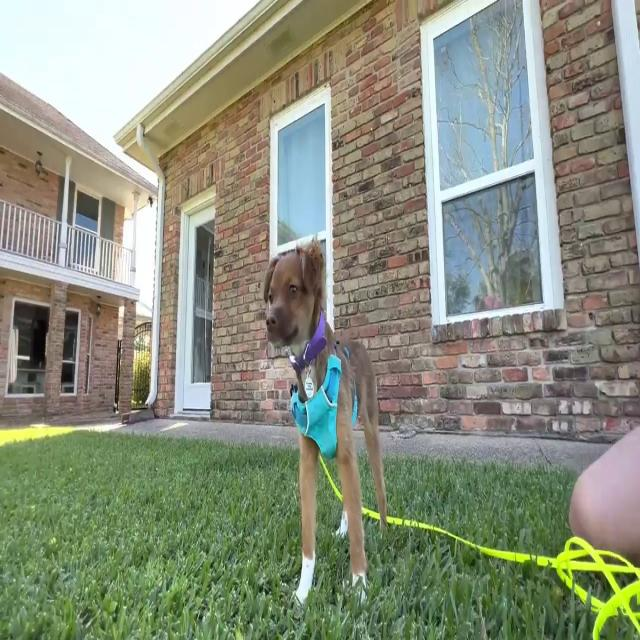Dog: (264, 236, 388, 605)
